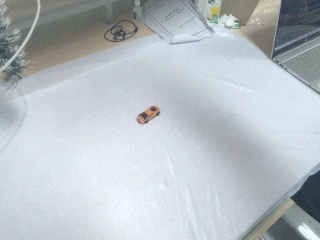toy_car: (135, 105, 163, 126)
